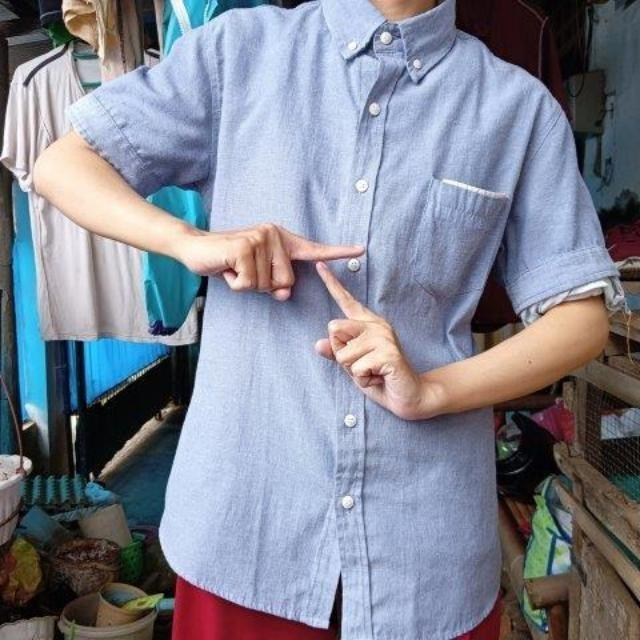T: (194, 187, 448, 432)
